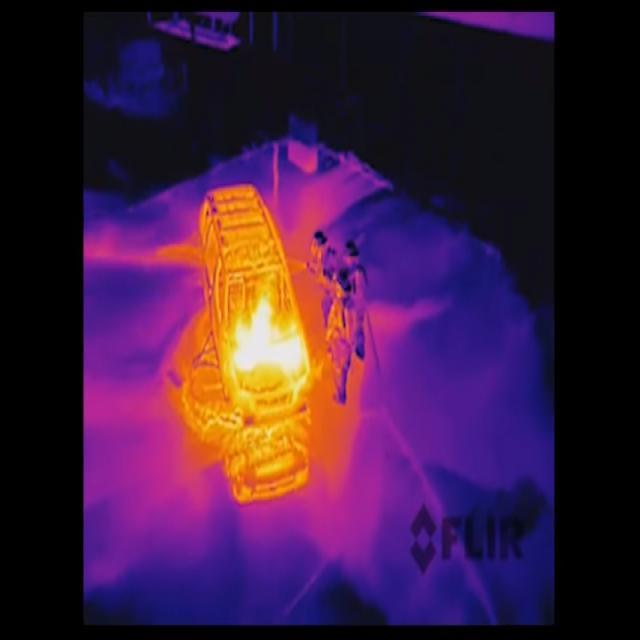fire: (231, 285, 312, 394)
